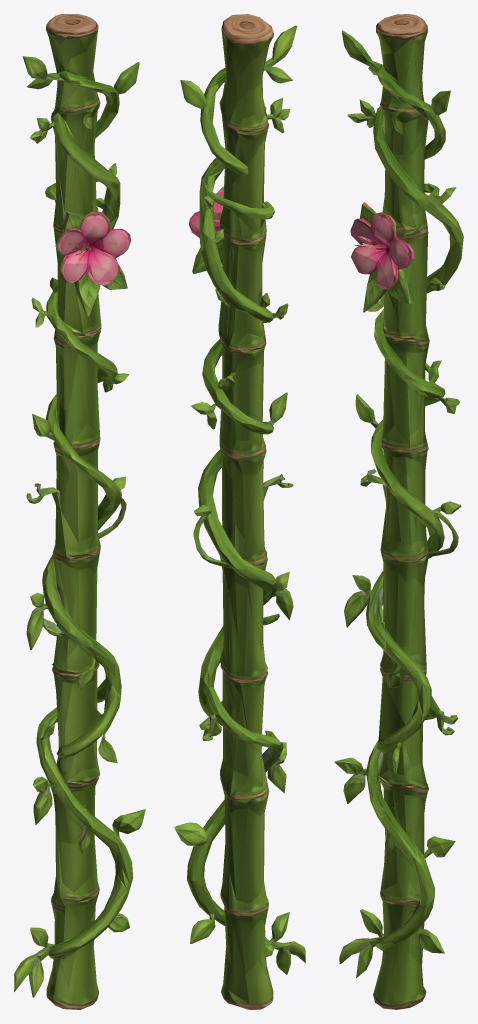
File: StaffVine.fbx
3 views of the same model, side by side, from view 1: azimuth 30°, elevation 25°; view 2: azimuth 210°, elevation 25°; view 3: azimuth 330°, elevation 25° (orthographic).
Parts seen in each view (by area): view 1: StaffVine; view 2: StaffVine; view 3: StaffVine.
Part boxes in pixels (x1,y1,x2,y2): StaffVine: [14, 14, 145, 1009]; StaffVine: [174, 14, 305, 1009]; StaffVine: [334, 14, 463, 1009].
Bounding box in the file's own units: 0.2308 × 1.75 × 0.159.
1 material, 1 textured.
